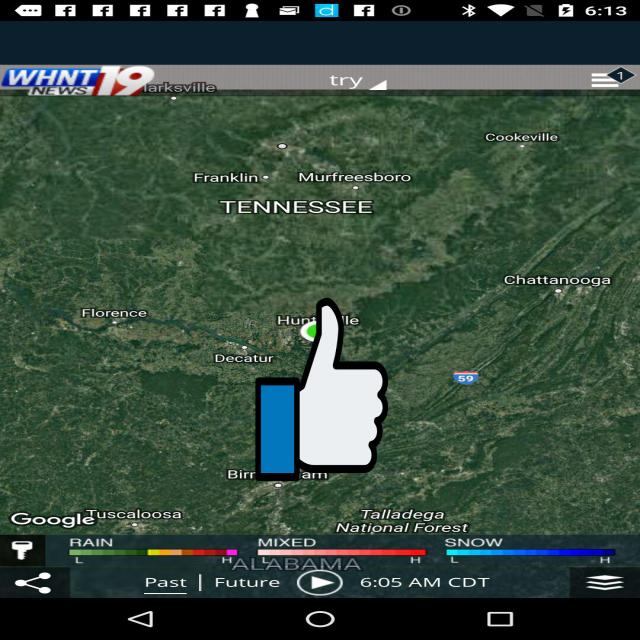privacy zuckering: (256, 294, 388, 485)
